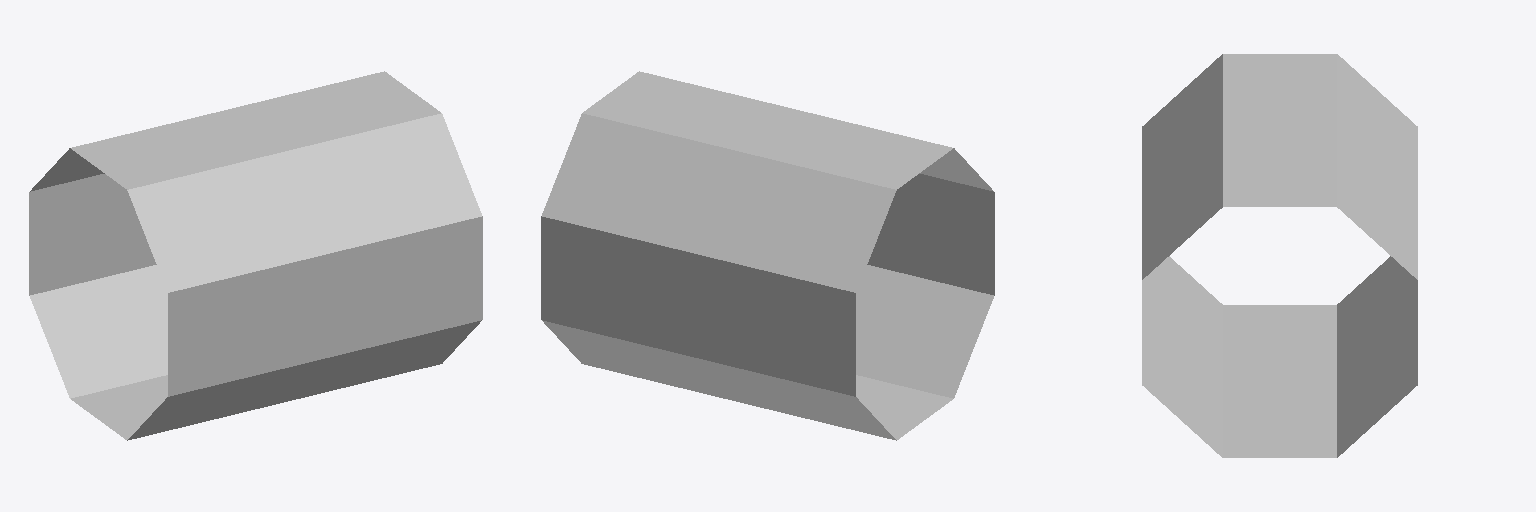
File: pipeNormal.obj
3 renders of one model, left to right at view 1: azimuth 30°, elevation 25°; view 2: azimuth 150°, elevation 25°; view 3: azimuth 270°, elevation 25°, orthographic.
Parts seen in each view (by area): view 1: mesh01; view 2: mesh01; view 3: mesh01.
Part boxes in pixels (bbox=[...]): mesh01: bbox=[29, 71, 482, 440]; mesh01: bbox=[541, 71, 994, 440]; mesh01: bbox=[1142, 54, 1417, 457].
Size of the model in its own units: 1 by 0.7611 by 0.7611.